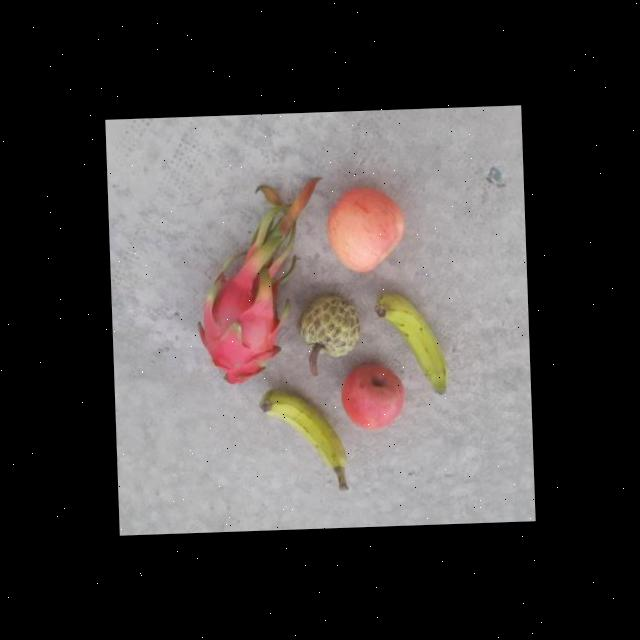Sakya fruit: (295, 296, 365, 361)
apple: (316, 179, 408, 277), (332, 358, 411, 432)
banana: (250, 386, 347, 487), (374, 288, 454, 400)
pitaya: (188, 271, 290, 385)
